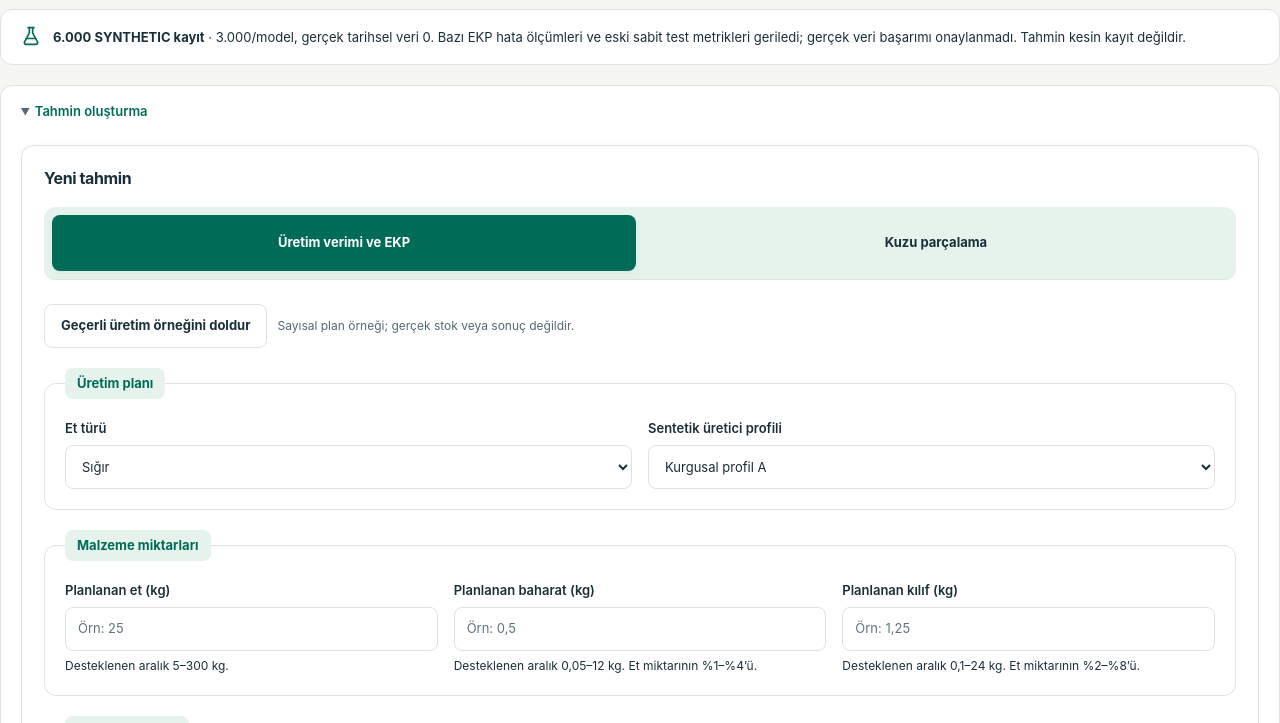
Scenario: backend aralık hatasını ilgili alana bağlar ve güncel sınırı gösterir
Expected: the field labelled "Planlanan et (kg)" is shown, [65,607,438,651]
Click the button "Geçerli üretim örneğini doldur".
click(156, 326)  # box [44,304,268,348]
(page scrolled)
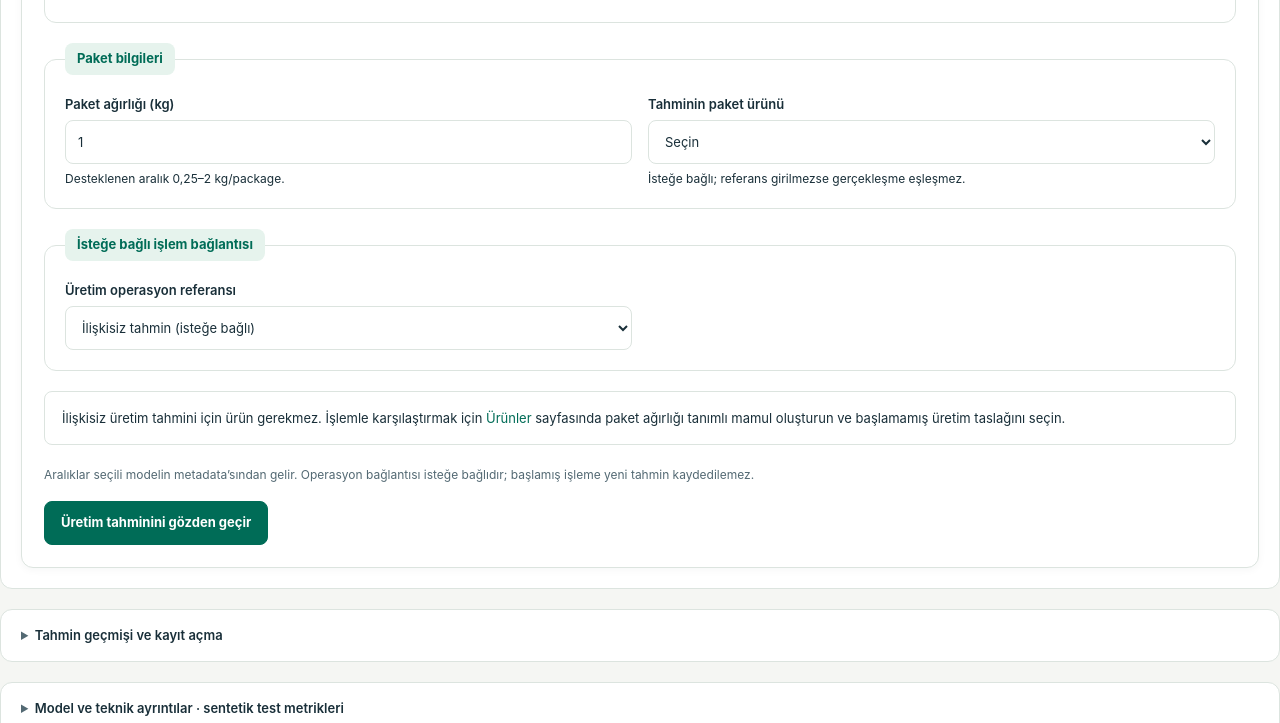
Click the button "Üretim tahminini gözden geçir".
click(156, 523)  # box [44,501,268,545]
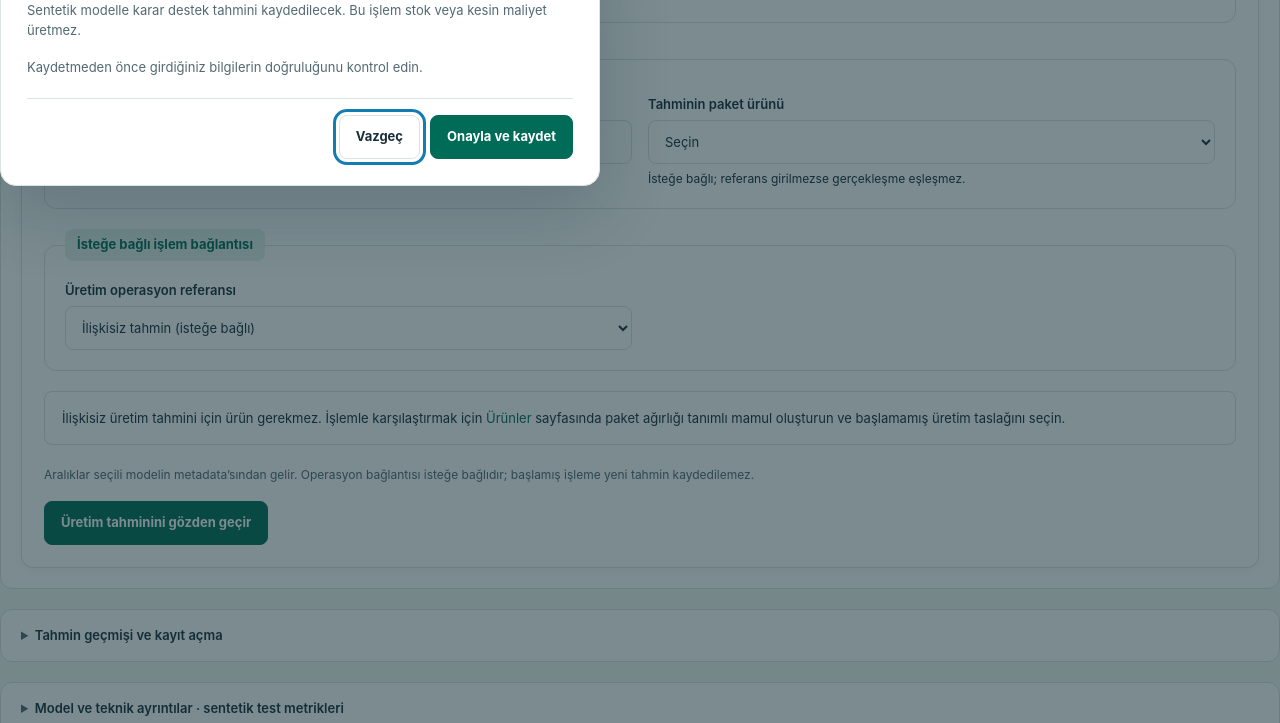
Click the button "Onayla ve kaydet".
click(502, 136)  # box [430,114,573,158]
(page scrolled)
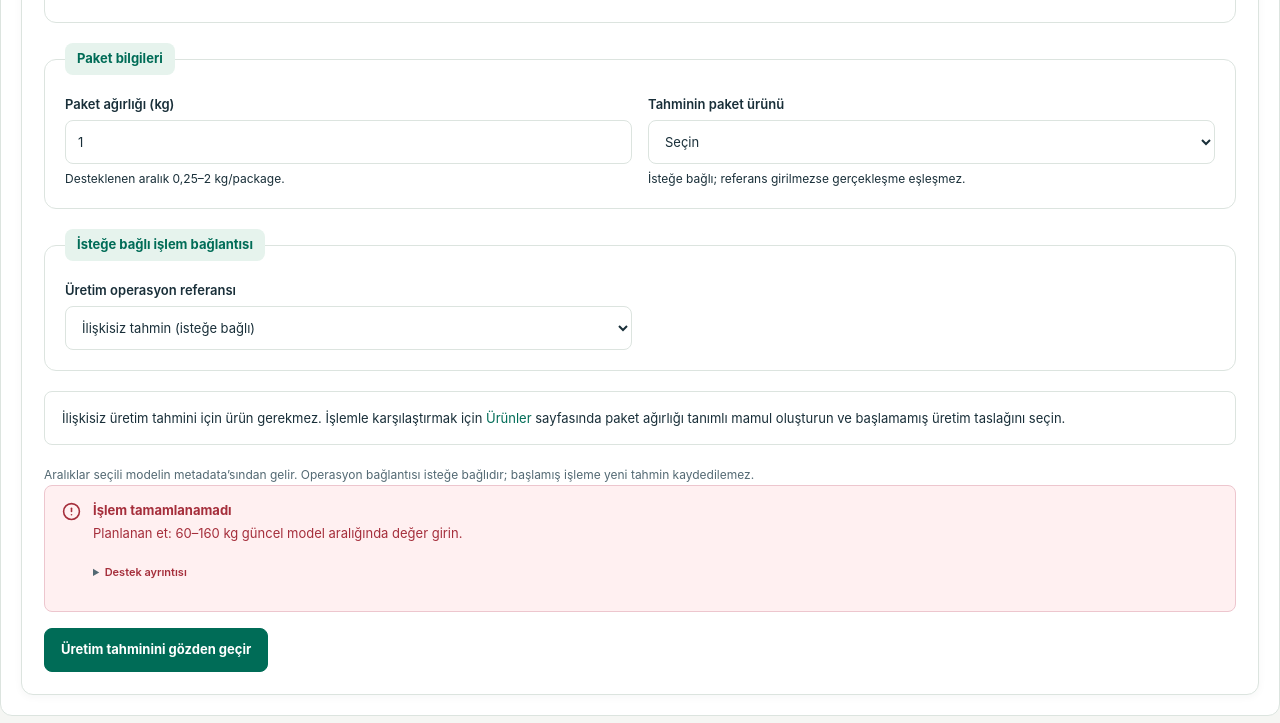
Expected: the message shows "60–160 kg", [93,525,462,541]
